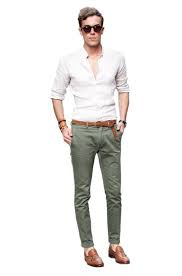F_belt: (66, 115, 126, 141)
